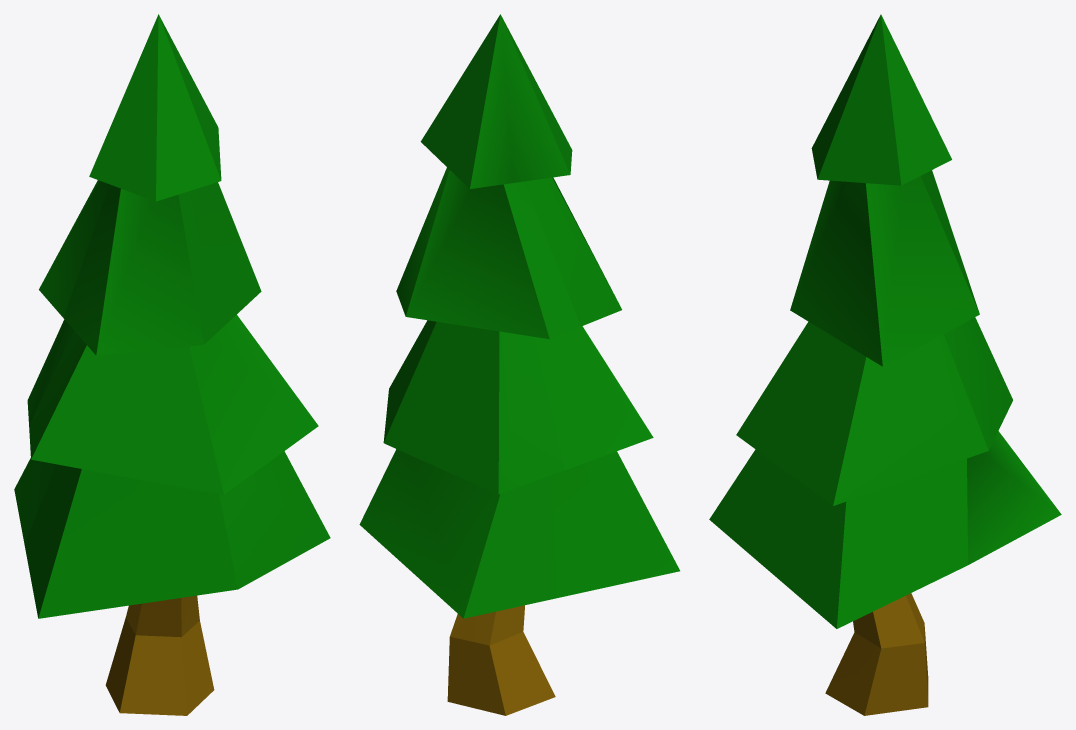
File: tree_pine_02.fbx
The picture shows the model from 3 angles, left to right: view 1: azimuth 30°, elevation 25°; view 2: azimuth 150°, elevation 25°; view 3: azimuth 270°, elevation 25°; orthographic projection.
Parts seen in each view (by area): view 1: pine_tree; view 2: pine_tree; view 3: pine_tree.
Boxes of the visible parts, left/top/right/bottom form: pine_tree: left=14, top=14, right=330, bottom=715; pine_tree: left=359, top=14, right=679, bottom=715; pine_tree: left=709, top=14, right=1061, bottom=715.
Size of the model in its own units: 32.81 by 71.09 by 33.45.
